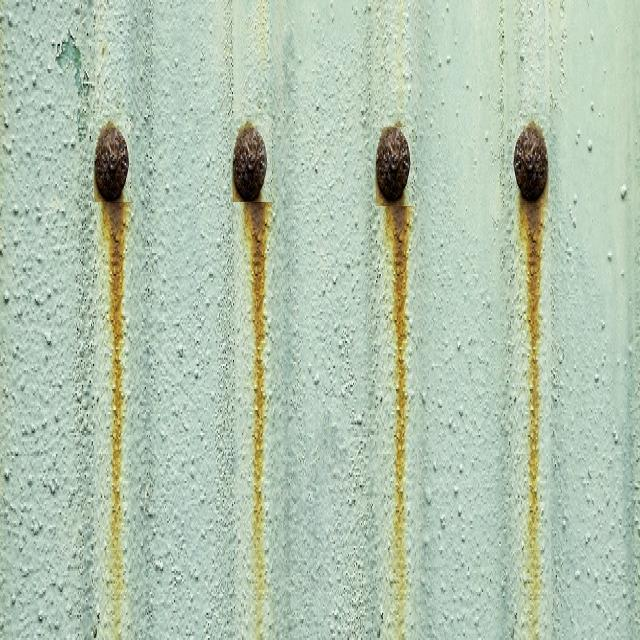Corrosion: (233, 122, 269, 640), (94, 122, 129, 640), (377, 126, 412, 634), (515, 122, 550, 560), (94, 122, 129, 201)
